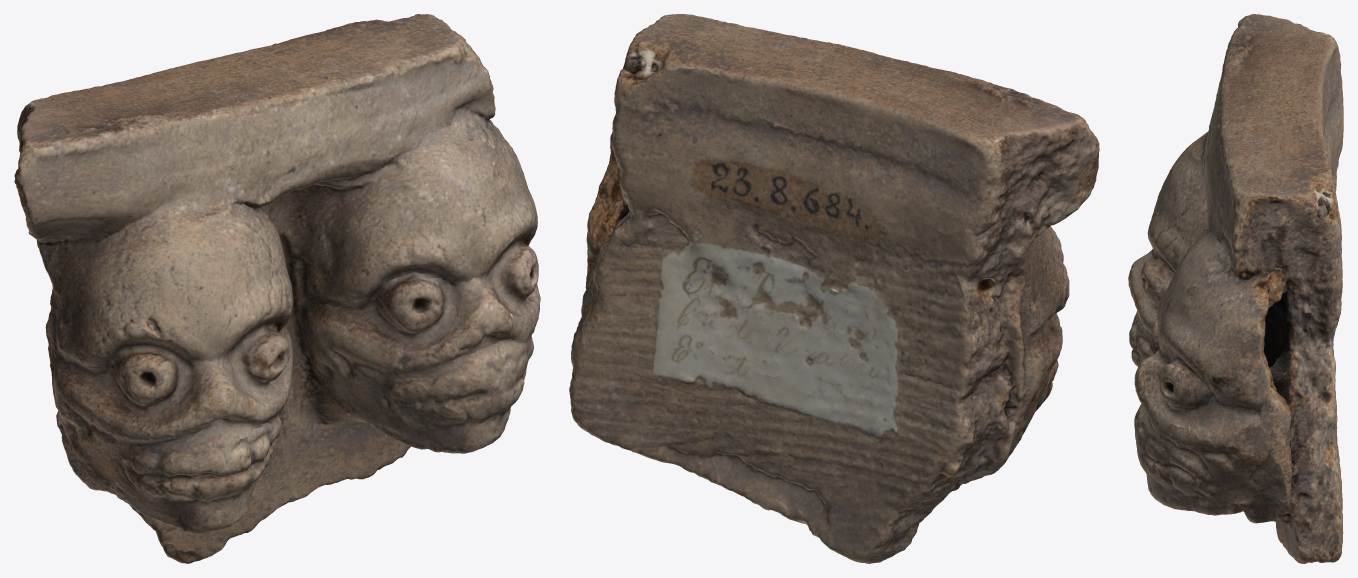
Rendered from skarva-transformed.glb.
3 renders of one model, left to right at view 1: azimuth 30°, elevation 25°; view 2: azimuth 150°, elevation 25°; view 3: azimuth 270°, elevation 25°, orthographic. The views are drawn at different scales.
Visible parts, largest first — view 1: 1923.08.0684 (skärva); view 2: 1923.08.0684 (skärva); view 3: 1923.08.0684 (skärva).
Boxes of the visible parts, x1,y1,x2,y2 form: 1923.08.0684 (skärva): [14, 14, 540, 563]; 1923.08.0684 (skärva): [569, 14, 1099, 563]; 1923.08.0684 (skärva): [1128, 14, 1343, 563].
Bounding box in the file's own units: 0.1193 × 0.1084 × 0.0496.
1 material, 1 textured.
